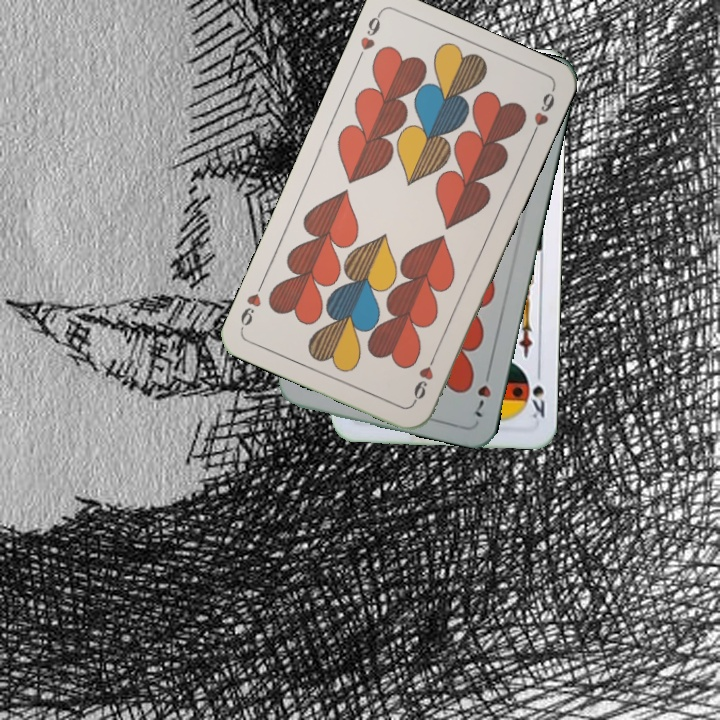H7: (468, 364, 494, 420)
H9: (408, 350, 439, 407), (352, 9, 383, 65)
SK: (527, 364, 547, 421)
